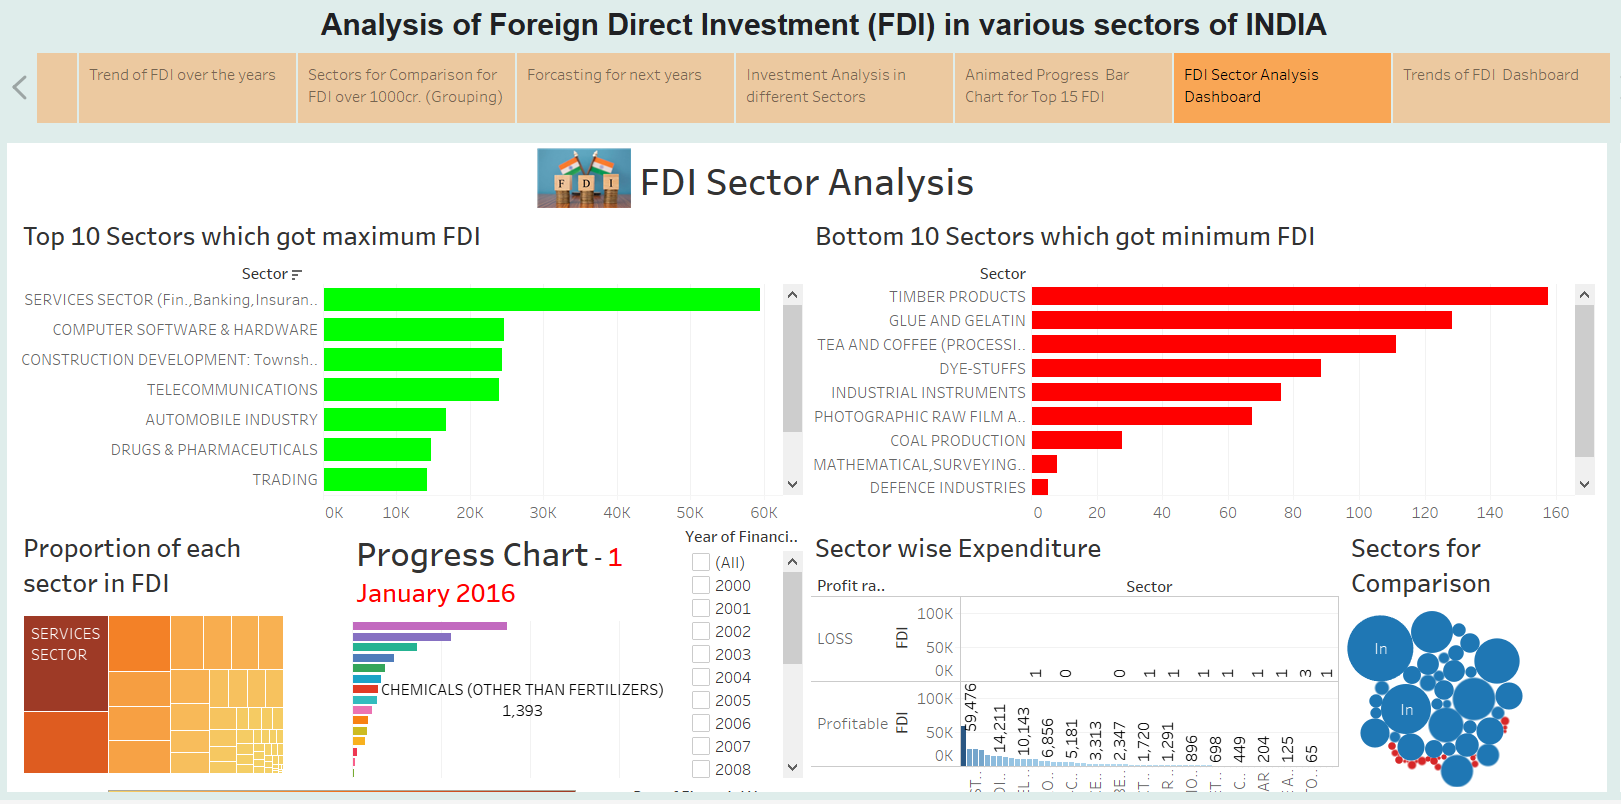

Layout of this report page (visuals, bound fields, positions):
{"tool":"tableau","page":{"name":"Sector","canvas":[1600,700],"ordinal":0},"visuals":[{"type":"worksheet","box":[0,0,1600,700]},{"type":"worksheet","param":"C:/Users/Abhishek Gupta/Desktop/UPES/A-Previous Sems/Semester-5/Descriptive anal","box":[529.9,5.2,338.8,60.4]},{"type":"worksheet","param":"horz","box":[8,8,1584,684]},{"type":"worksheet","param":"horz","box":[8,8,1584,684]},{"type":"worksheet","param":"vert","box":[8,8,1584,684]},{"type":"worksheet","box":[8,8,1584,59]},{"type":"worksheet","box":[8,67,1584,625]},{"type":"worksheet","title":"Max FDI","mark":"Automatic","rows":["Sector"],"cols":["Pivot Field Values"],"box":[8,67,792,312.5]},{"type":"worksheet","title":"Min FDI","mark":"Automatic","rows":["Sector"],"cols":["Pivot Field Values"],"box":[800,67,792,312.5]},{"type":"worksheet","title":"Proportion","mark":"Automatic","box":[8,379.5,333,259.9]},{"type":"worksheet","title":"RaceChart","mark":"Automatic","cols":["Pivot Field Values"],"box":[341,379.5,333,259.9]},{"type":"worksheet","title":"Proportion","mark":"Automatic","param":"[federated.096dzne0wei7b115pbcn80k0elzj].[yr:Calculation_998391793726054400:ok]","box":[673.9,379.5,126.1,259.9]},{"type":"worksheet","title":"Expenditure","mark":"Automatic","rows":["Calculation_1016687667389726721","Pivot Field Values"],"cols":["Sector"],"box":[800,379.5,536.1,312.5]},{"type":"worksheet","title":"Grouping/Sets","mark":"Circle","box":[1336.1,379.5,255.9,269.4]},{"type":"worksheet","title":"Proportion","mark":"Automatic","param":"[federated.096dzne0wei7b115pbcn80k0elzj].[sum:Pivot Field Values:qk]","box":[8,639.4,614,52.6]},{"type":"worksheet","title":"RaceChart","mark":"Automatic","cols":["Pivot Field Values"],"box":[622,639.4,178,52.6]},{"type":"worksheet","title":"Grouping/Sets","mark":"Circle","param":"[federated.096dzne0wei7b115pbcn80k0elzj].[io:FDI over 1000:nk]","box":[1336.1,648.9,255.9,43.1]}]}

Visuals, with their boxes on the page's 1600x700 design canvas (x1, y1, x2, y2). These are canvas units, not pixel positions in the 1621x804 screenshot, which may show the page scaled, cropped or inside an application window:
worksheet: crop(0, 0, 1600, 700)
worksheet: crop(530, 5, 869, 66)
worksheet: crop(8, 8, 1592, 692)
worksheet: crop(8, 8, 1592, 692)
worksheet: crop(8, 8, 1592, 692)
worksheet: crop(8, 8, 1592, 67)
worksheet: crop(8, 67, 1592, 692)
"Max FDI" worksheet: crop(8, 67, 800, 380)
"Min FDI" worksheet: crop(800, 67, 1592, 380)
"Proportion" worksheet: crop(8, 380, 341, 639)
"RaceChart" worksheet: crop(341, 380, 674, 639)
"Proportion" worksheet: crop(674, 380, 800, 639)
"Expenditure" worksheet: crop(800, 380, 1336, 692)
"Grouping/Sets" worksheet (Circle marks): crop(1336, 380, 1592, 649)
"Proportion" worksheet: crop(8, 639, 622, 692)
"RaceChart" worksheet: crop(622, 639, 800, 692)
"Grouping/Sets" worksheet (Circle marks): crop(1336, 649, 1592, 692)
